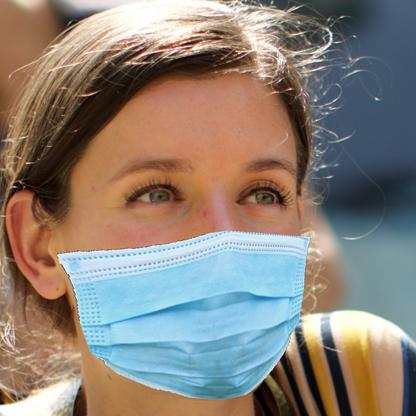mask: (50, 230, 314, 400)
